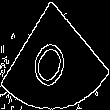O_NE: (31, 20, 79, 90)
